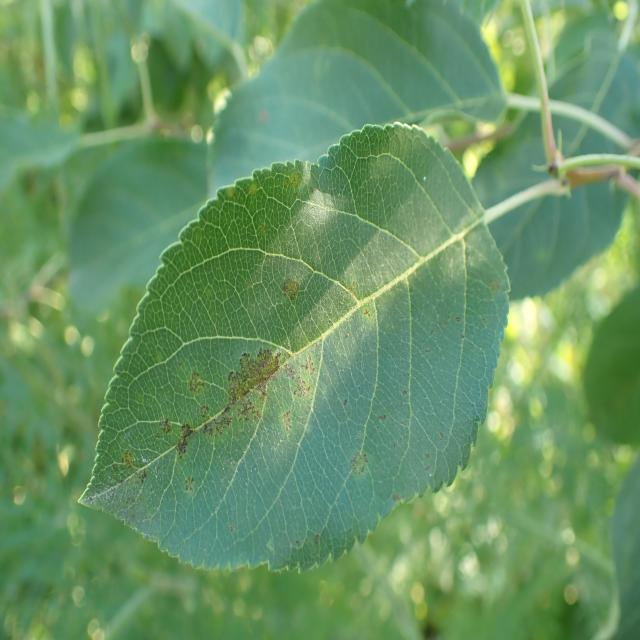scab: (84, 264, 446, 531)
